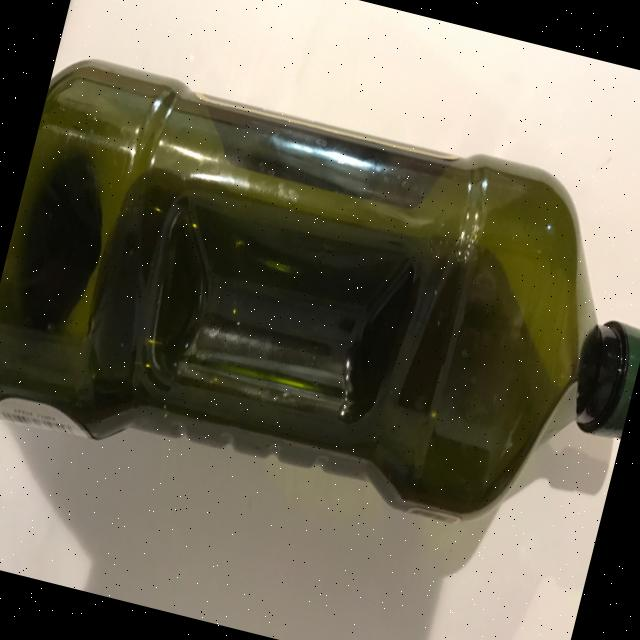plastic: (0, 45, 640, 566)
